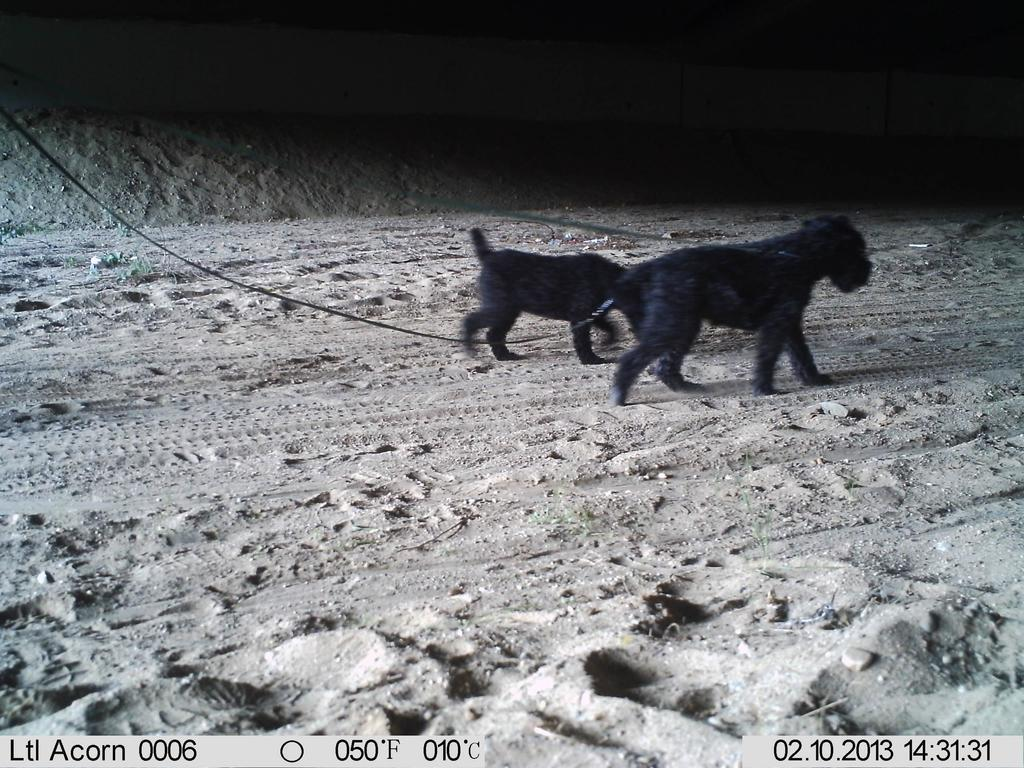dog: (609, 208, 881, 414), (455, 218, 645, 372)
